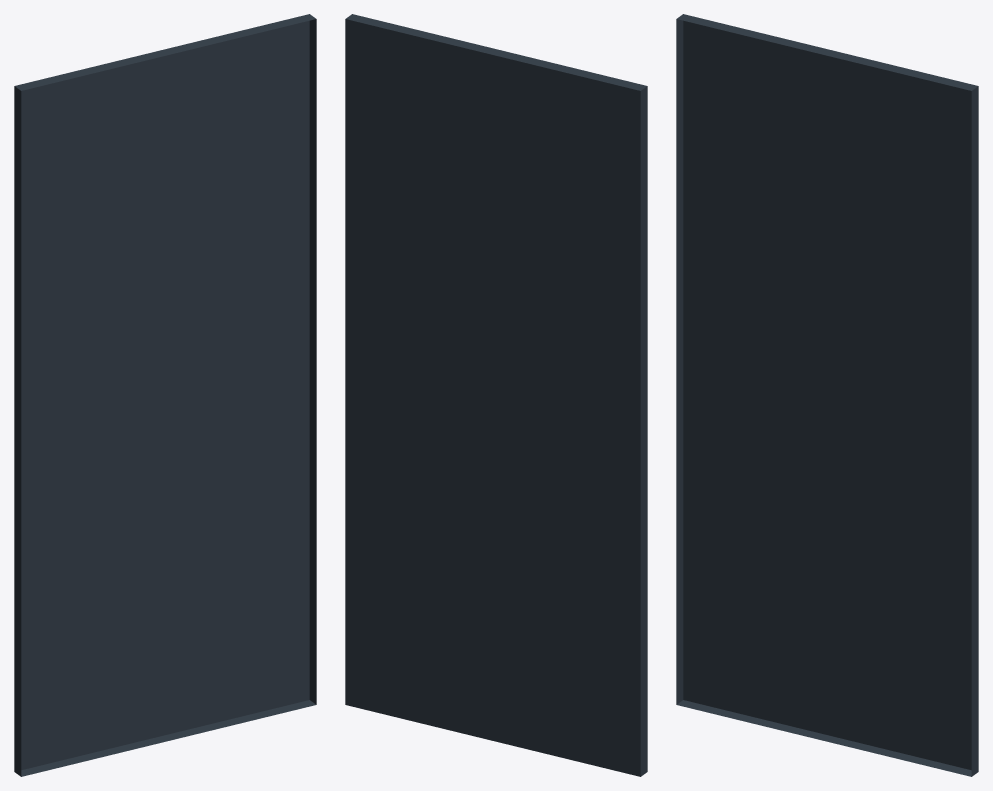
The model's file is original-10.obj.
The picture shows the model from 3 angles, left to right: view 1: azimuth 30°, elevation 25°; view 2: azimuth 150°, elevation 25°; view 3: azimuth 330°, elevation 25°; orthographic projection.
Parts seen in each view (by area): view 1: #ID81; view 2: #ID81; view 3: #ID81.
Part boxes in pixels (<box>): #ID81: <box>14,14,316,776</box>; #ID81: <box>345,14,647,776</box>; #ID81: <box>676,14,978,776</box>.
Size of the model in its own units: 0.6968 by 1.55 by 0.0279.
